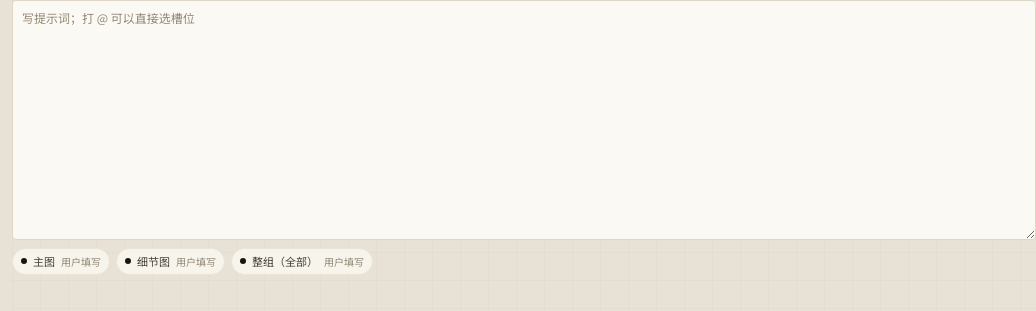
Scenario: 粘贴 › 粘多段引用：各自成胶囊
The width and height of the screenshot is (1036, 311).
Click the field at (524, 120), box left=12, top=0, right=1035, bottom=240
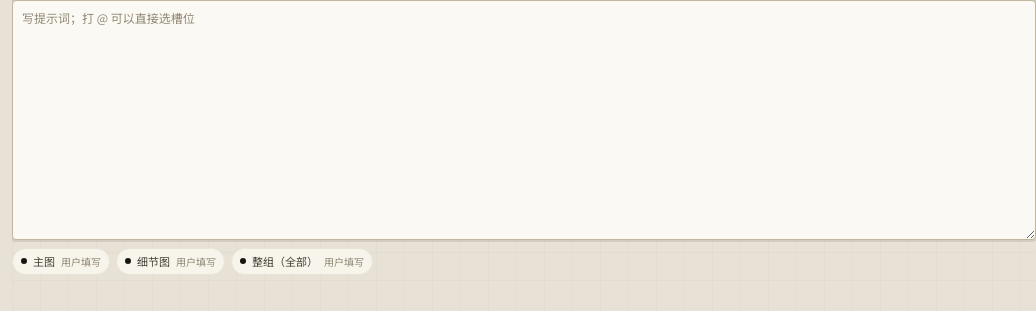
Type keys "{{slot:image_1}} 和 {{slot:group*}}"
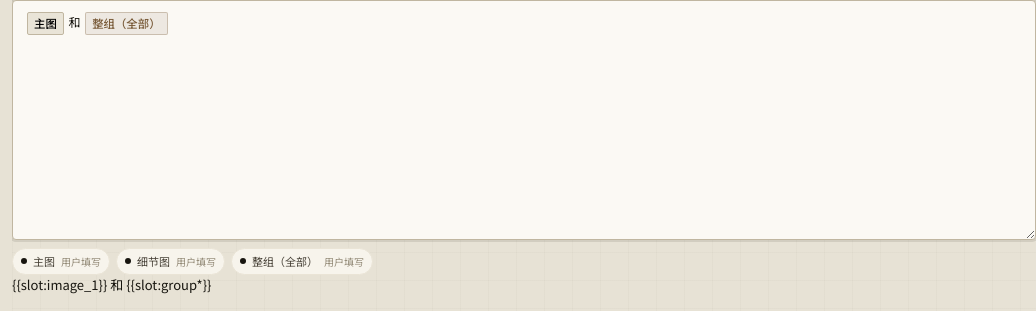
Expected: the 1st text "整组（全部）" is shown, left=85, top=12, right=168, bottom=35
